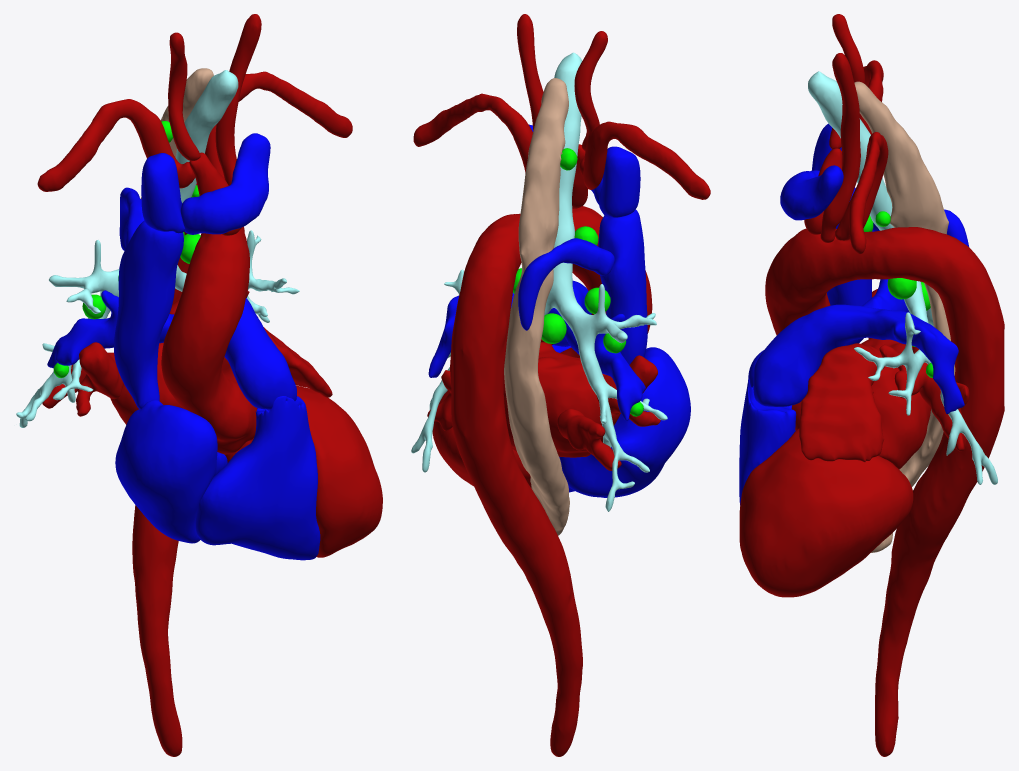
File: simplified_sim_model.glb
3 renders of one model, left to right at view 1: azimuth 30°, elevation 25°; view 2: azimuth 150°, elevation 25°; view 3: azimuth 270°, elevation 25°, orthographic. The views are drawn at different scales.
Visible parts, largest first — view 1: aorta, Right Ventricle, Right Atrium, Left Ventricle, superior_vena_cava, Airway, pulmonary artery, left brachiocephalic vein, right subclavian artery, right brachiocephalic vein, left subclavian artery, pulmonary venous system (+7 smaller); view 2: aorta, esophagus, Airway, Right Atrium, superior_vena_cava, Left Atrium, right subclavian artery, pulmonary venous system, pulmonary artery, azygous, left subclavian artery, right brachiocephalic vein (+5 smaller); view 3: aorta, Left Ventricle, pulmonary artery, atrial_appendage_left, esophagus, Airway, Left Atrium, left common carotid artery, Right Ventricle, left subclavian artery, left brachiocephalic vein, pulmonary venous system (+7 smaller).
Part boxes in pixels (x1=…): aorta: x1=132, y1=183, x2=257, y2=756; Right Ventricle: x1=195, y1=396, x2=320, y2=560; Right Atrium: x1=115, y1=400, x2=227, y2=543; Left Ventricle: x1=225, y1=385, x2=382, y2=557; superior_vena_cava: x1=114, y1=220, x2=183, y2=409; Airway: x1=16, y1=70, x2=299, y2=427; pulmonary artery: x1=47, y1=290, x2=296, y2=409; left brachiocephalic vein: x1=180, y1=133, x2=270, y2=234; right subclavian artery: x1=37, y1=99, x2=195, y2=191; right brachiocephalic vein: x1=141, y1=153, x2=184, y2=233; left subclavian artery: x1=205, y1=71, x2=352, y2=178; pulmonary venous system: x1=42, y1=290, x2=257, y2=416; aorta: x1=450, y1=206, x2=652, y2=756; esophagus: x1=504, y1=78, x2=569, y2=535; Airway: x1=411, y1=52, x2=667, y2=511; Right Atrium: x1=559, y1=347, x2=690, y2=497; superior_vena_cava: x1=598, y1=209, x2=647, y2=364; Left Atrium: x1=504, y1=342, x2=620, y2=457; right subclavian artery: x1=579, y1=121, x2=710, y2=199; pulmonary venous system: x1=427, y1=355, x2=660, y2=470; pulmonary artery: x1=428, y1=280, x2=645, y2=420; azygous: x1=518, y1=238, x2=614, y2=330; left subclavian artery: x1=413, y1=93, x2=532, y2=172; right brachiocephalic vein: x1=598, y1=146, x2=640, y2=217; aorta: x1=765, y1=227, x2=1004, y2=756; Left Ventricle: x1=739, y1=428, x2=913, y2=597; pulmonary artery: x1=753, y1=279, x2=964, y2=413; atrial_appendage_left: x1=799, y1=343, x2=884, y2=462; esophagus: x1=854, y1=81, x2=955, y2=552; Airway: x1=808, y1=71, x2=997, y2=484; Left Atrium: x1=861, y1=338, x2=930, y2=469; left common carotid artery: x1=820, y1=53, x2=860, y2=242; Right Ventricle: x1=739, y1=379, x2=796, y2=505; left subclavian artery: x1=835, y1=132, x2=888, y2=254; left brachiocephalic vein: x1=780, y1=165, x2=843, y2=220; pulmonary venous system: x1=868, y1=289, x2=969, y2=451.
Size of the model in its own units: 0.1633 by 0.3734 by 0.1227.
